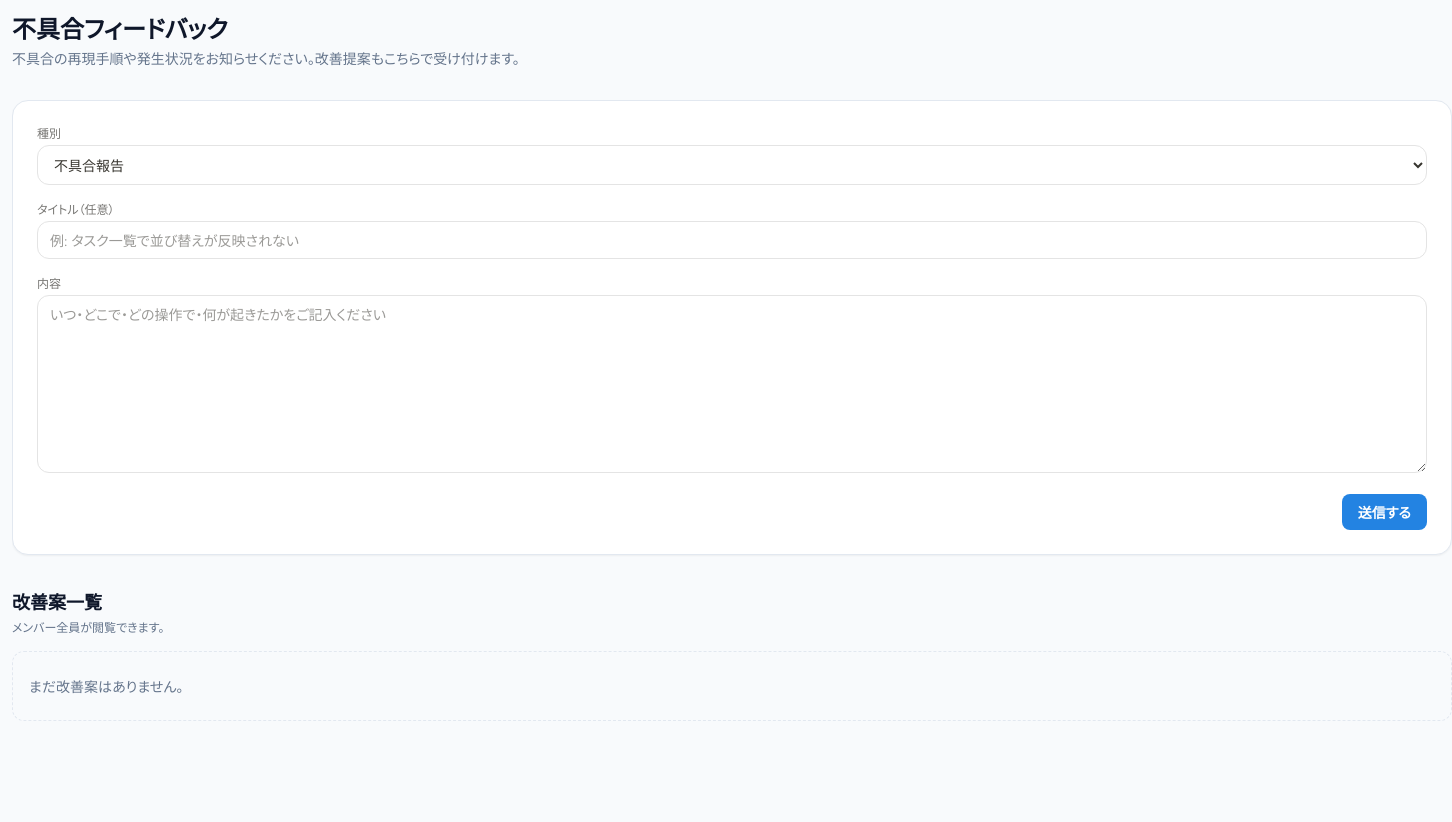
Test case: フィードバックページ › 送信時に前後空白を除去したペイロードを保存する
This screenshot has width=1452, height=822.
Step 1. Type "  新しいタイトル  " into the field labelled "タイトル（任意）" → (732, 240), box x1=37 y1=221 x2=1427 y2=259
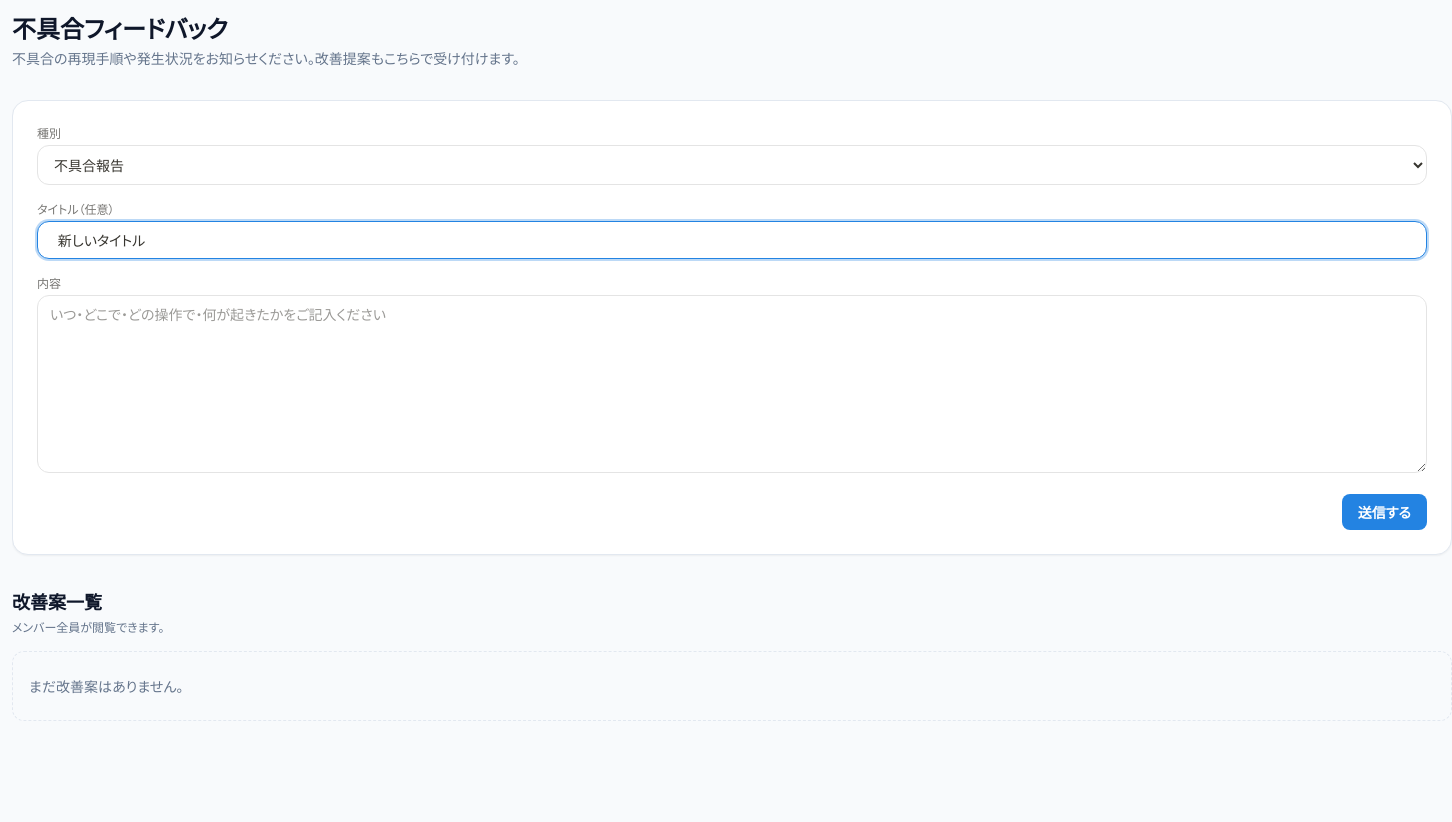
Step 2. Type "  送信メッセージ  " into the text box labelled "内容" → (732, 384), box x1=37 y1=295 x2=1427 y2=473
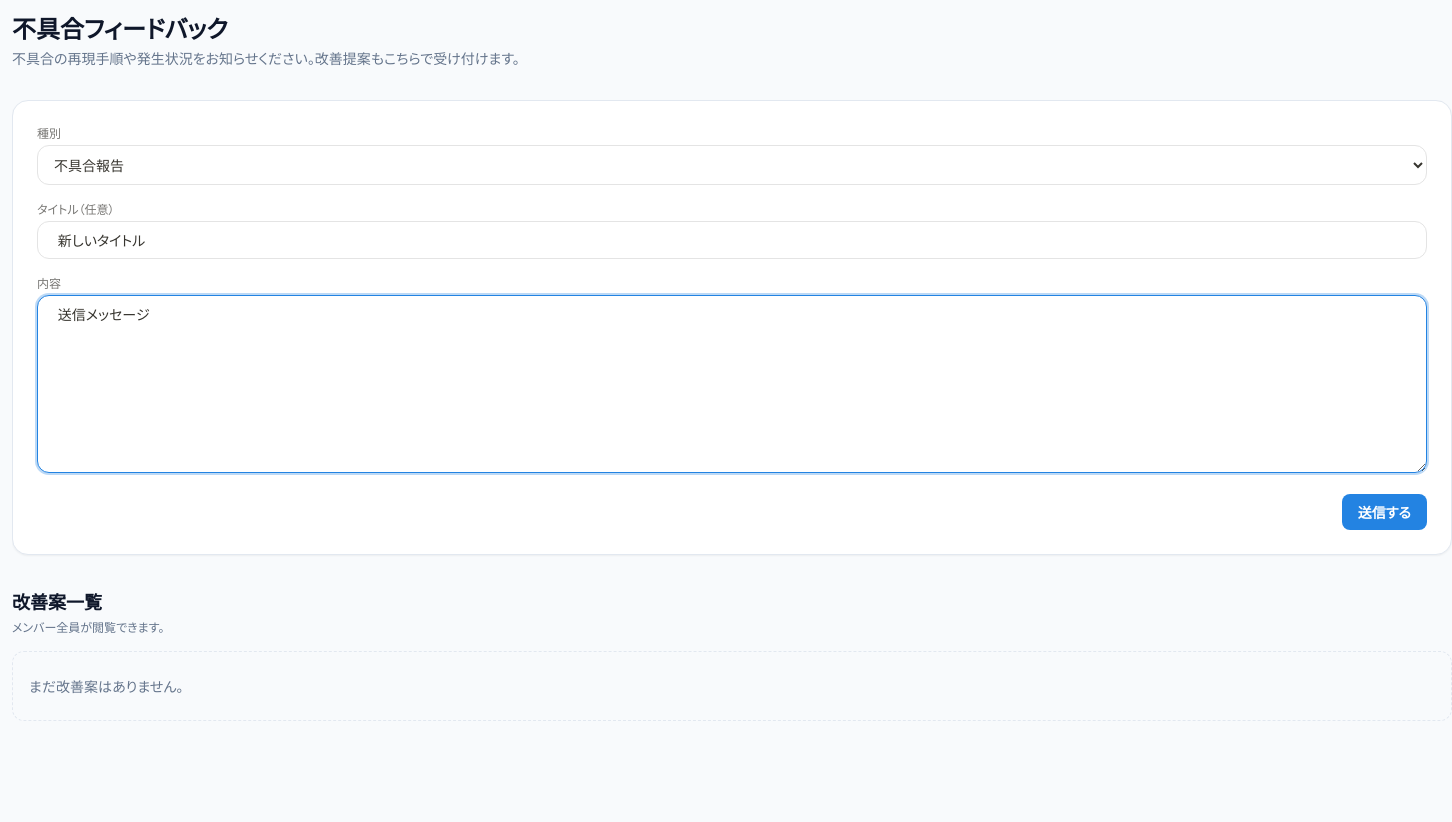
Step 3. Click the button "送信する" → (1384, 512), box x1=1342 y1=494 x2=1427 y2=530
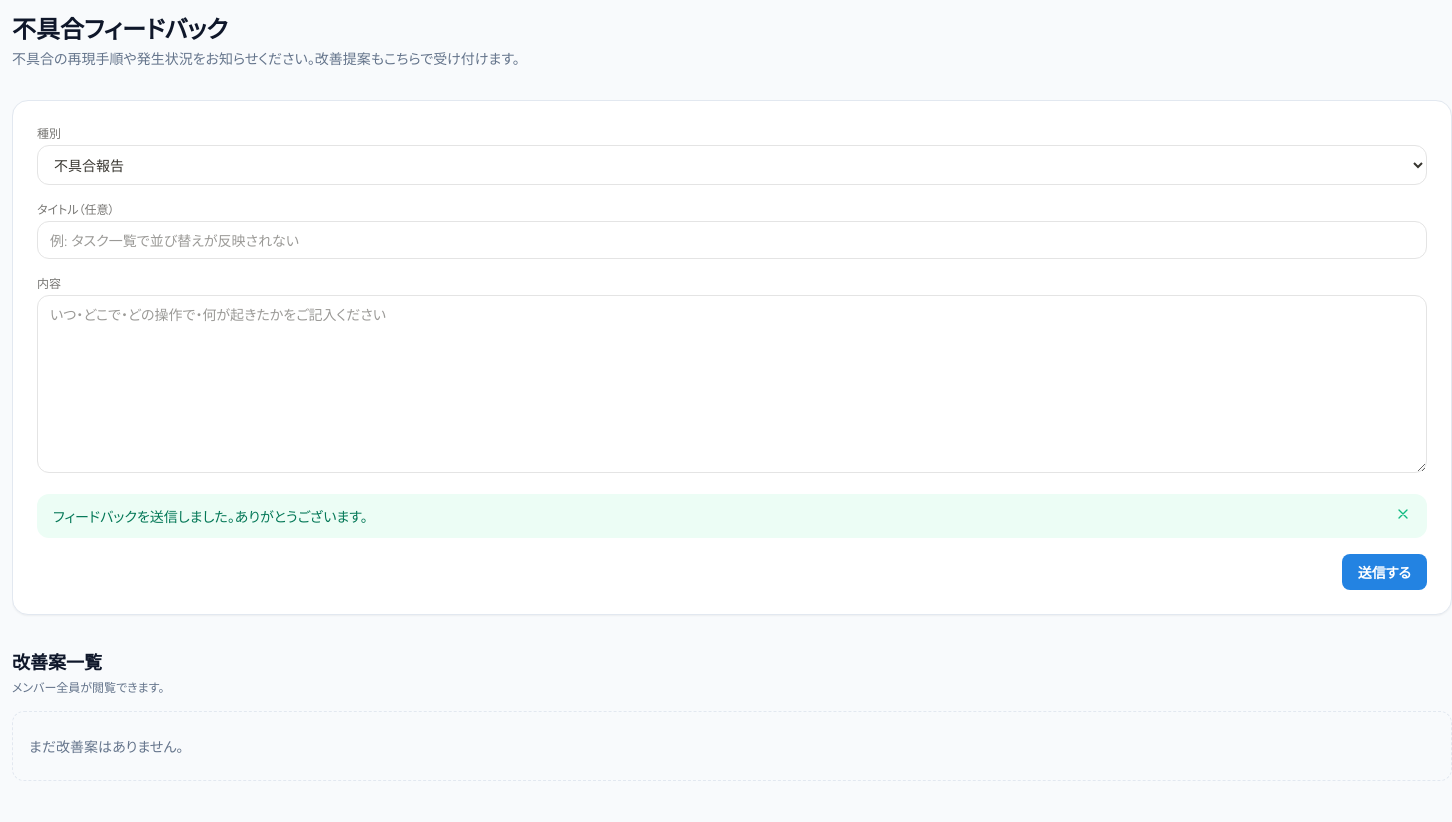
Now the text "フィードバックを送信しました。ありがとうございます。" is shown, box x1=53 y1=506 x2=368 y2=526
